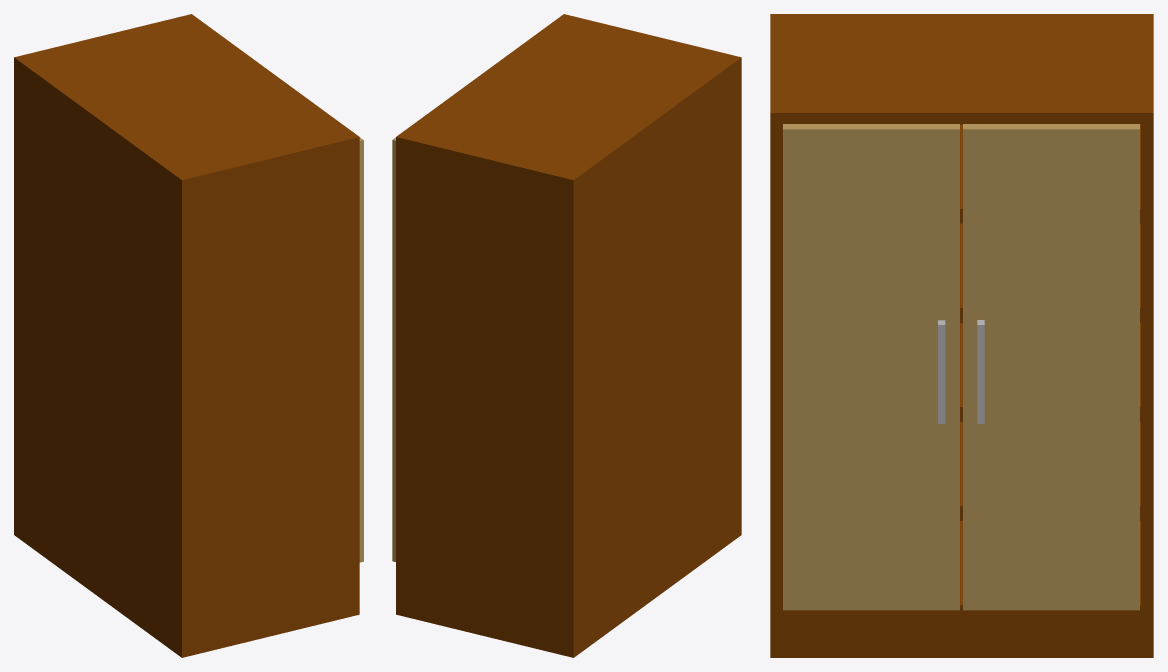
The model's file is Skab_1.fbx.
3 renders of one model, left to right at view 1: azimuth 30°, elevation 25°; view 2: azimuth 150°, elevation 25°; view 3: azimuth 270°, elevation 25°, orthographic. The views are drawn at different scales.
Parts seen in each view (by area): view 1: Skab_1, SkabslågeV_2.001; view 2: Skab_1, SkablågeH_2.001; view 3: SkablågeH_2.001, SkabslågeV_2.001, Skab_1.
Part boxes in pixels (x1,y1,x2,y2): Skab_1: (14,14,359,657); SkabslågeV_2.001: (359,137,363,562); Skab_1: (396,14,741,657); SkablågeH_2.001: (392,137,395,561); SkablågeH_2.001: (963,124,1139,610); SkabslågeV_2.001: (783,124,959,610); Skab_1: (770,14,1153,657).
Size of the model in its own units: 135 by 314 by 200.
